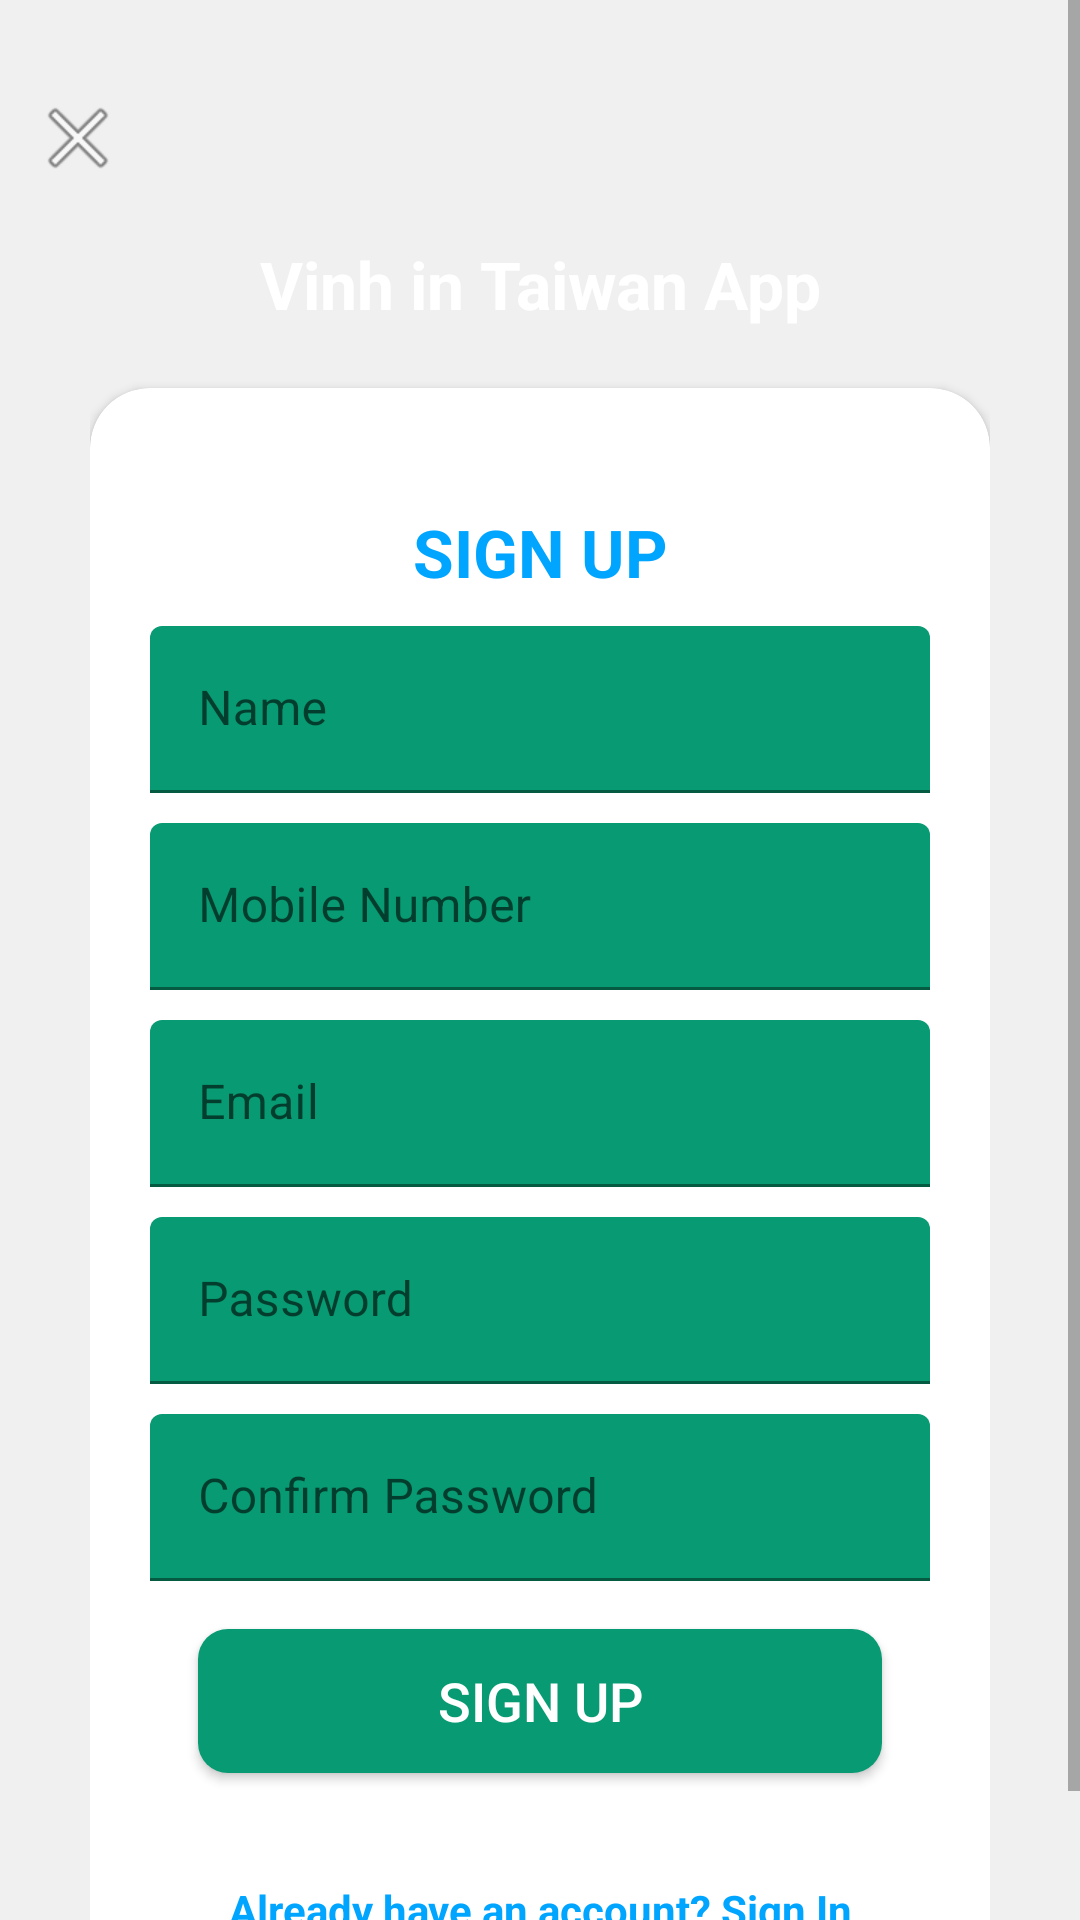

Icons on this 1080 x 1920 Android screen, each with the point to tap as [x,y]:
close clear cancel: [78,138]
